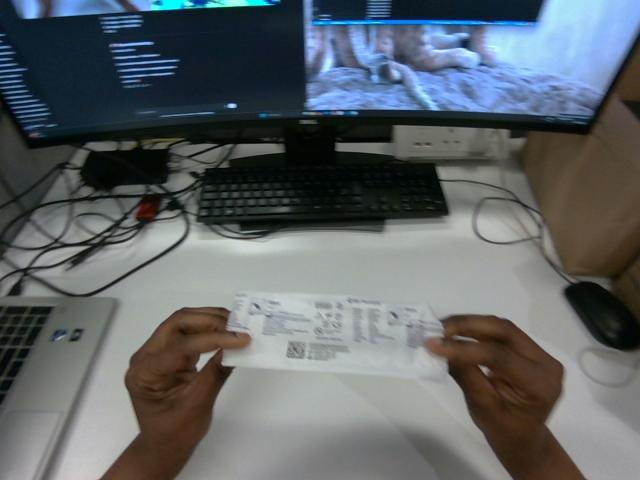syringe: (223, 292, 446, 380)
